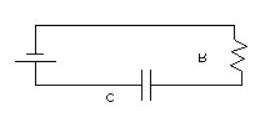Capacitor: (130, 60, 168, 106)
